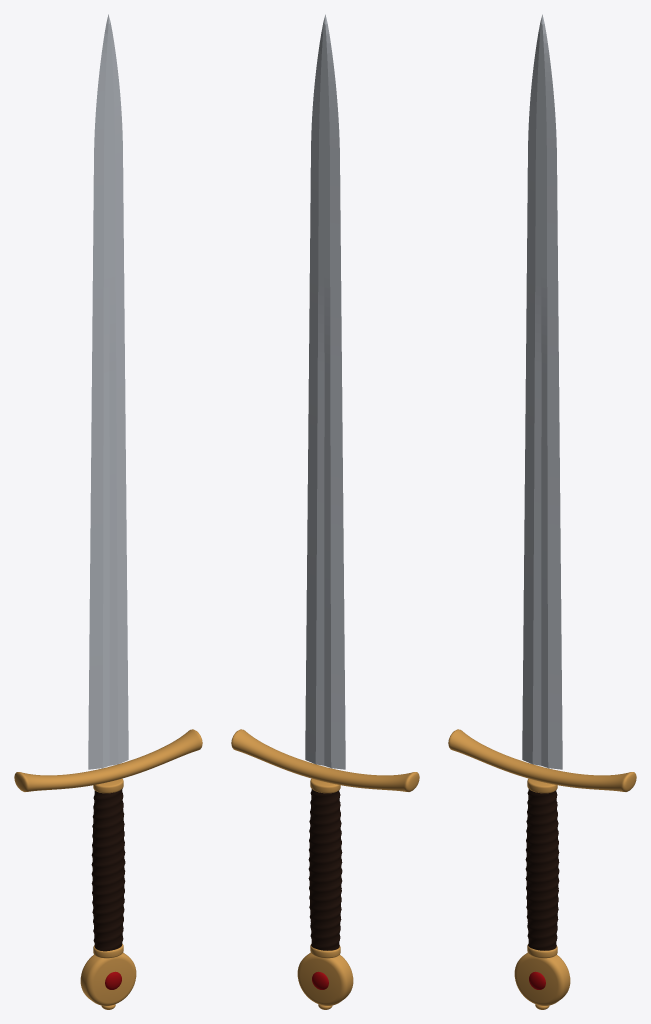
Rendered from sword.obj.
3 renders of one model, left to right at view 1: azimuth 30°, elevation 25°; view 2: azimuth 150°, elevation 25°; view 3: azimuth 330°, elevation 25°, orthographic.
Parts seen in each view (by area): view 1: Blade, Grip, Guard, Pommel; view 2: Blade, Grip, Guard, Pommel; view 3: Blade, Grip, Guard, Pommel.
Part boxes in pixels (left/top/right/bottom): Blade: left=88, top=14, right=128, bottom=769; Grip: left=91, top=788, right=125, bottom=951; Guard: left=14, top=729, right=202, bottom=791; Pommel: left=80, top=952, right=136, bottom=1005; Blade: left=305, top=14, right=345, bottom=769; Grip: left=308, top=789, right=342, bottom=950; Guard: left=231, top=729, right=419, bottom=791; Pommel: left=297, top=952, right=353, bottom=1005; Blade: left=522, top=14, right=562, bottom=769; Grip: left=525, top=789, right=559, bottom=950; Guard: left=448, top=729, right=636, bottom=791; Pommel: left=514, top=952, right=570, bottom=1005.
Size of the model in its own units: 0.2291 by 1.22 by 0.0321.
